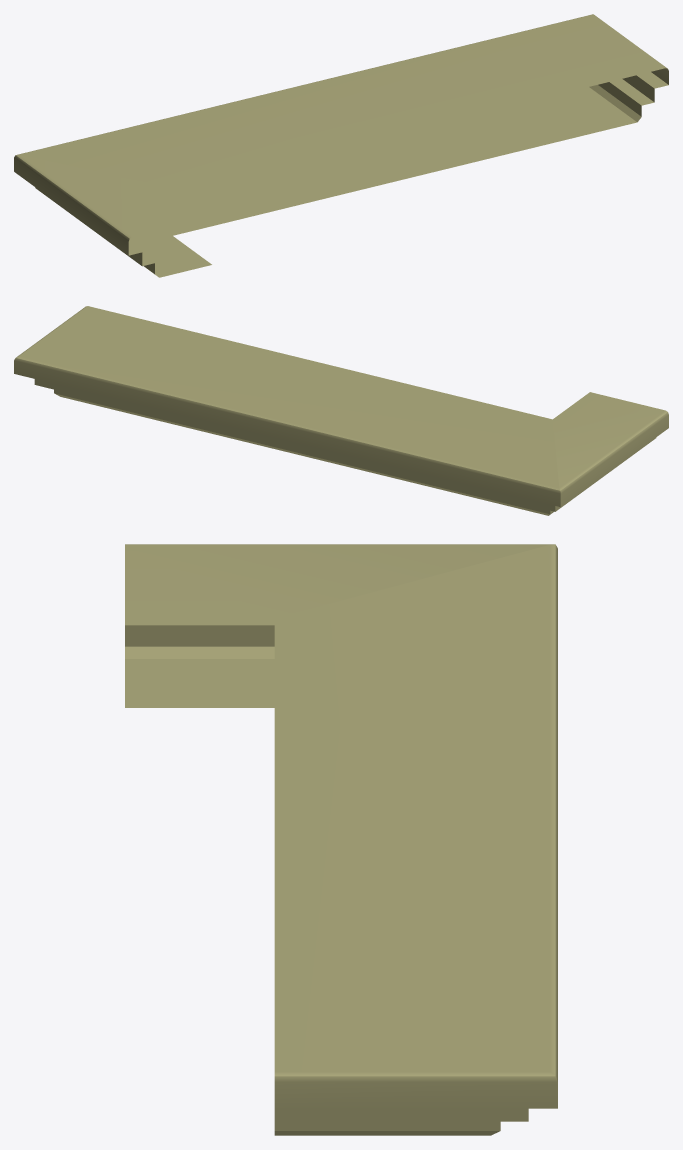
The model's file is SM_TB_Ledge1.fbx.
3 renders of one model, top to bottom at view 1: azimuth 30°, elevation 25°; view 2: azimuth 150°, elevation 25°; view 3: azimuth 270°, elevation 25°, orthographic. The views are drawn at different scales.
Visible parts, largest first — view 1: SM_TB_Ledge1; view 2: SM_TB_Ledge1; view 3: SM_TB_Ledge1.
Boxes of the visible parts, <box> form: SM_TB_Ledge1: <box>14,14,668,277</box>; SM_TB_Ledge1: <box>14,306,668,515</box>; SM_TB_Ledge1: <box>125,544,557,1135</box>.
Size of the model in its own units: 337 by 26.32 by 116.
